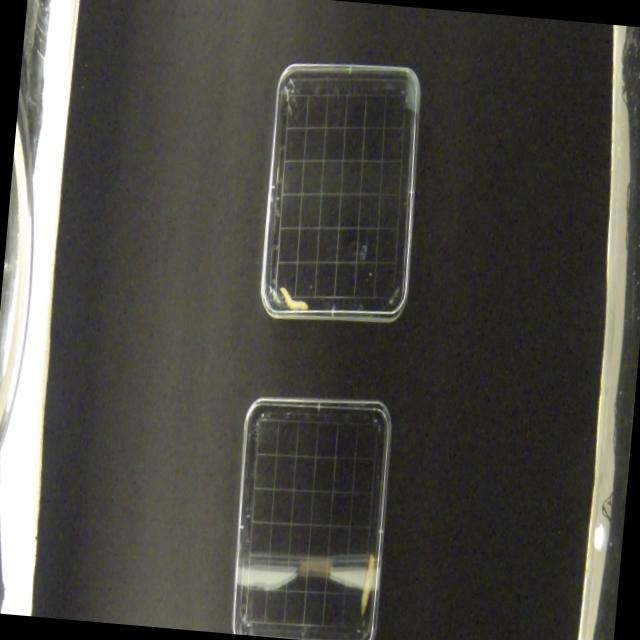larva: (358, 552, 378, 619), (276, 282, 312, 314)
